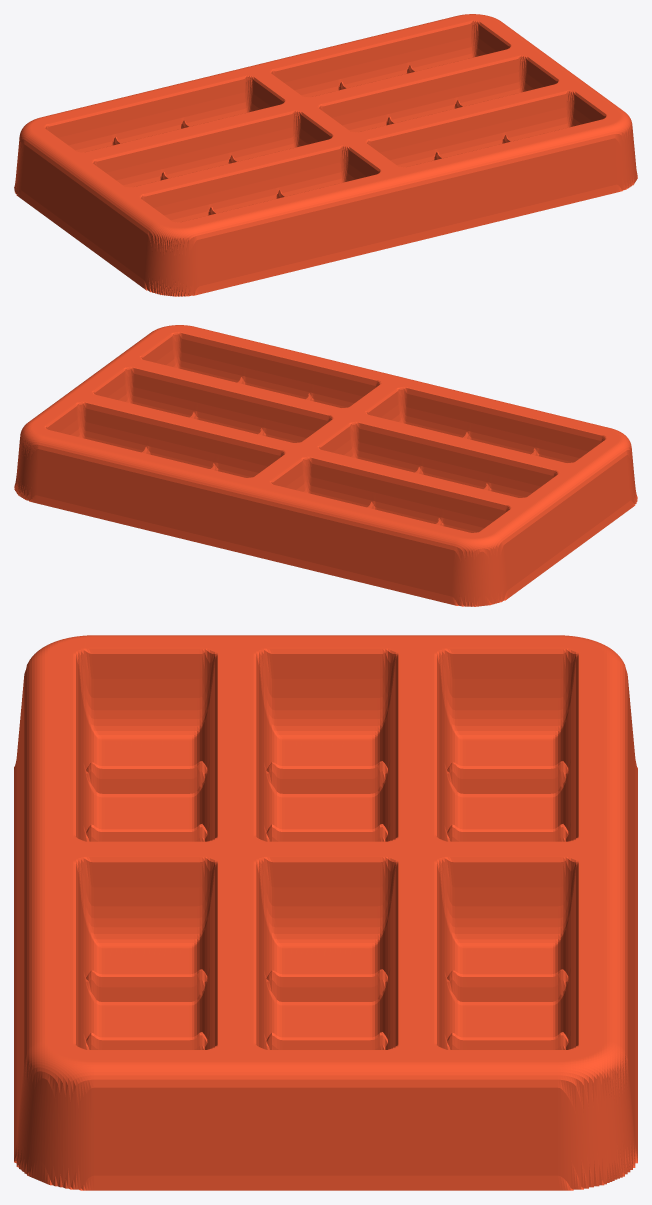
Rendered from mold.glb.
3 renders of one model, top to bottom at view 1: azimuth 30°, elevation 25°; view 2: azimuth 150°, elevation 25°; view 3: azimuth 270°, elevation 25°, orthographic. The views are drawn at different scales.
Parts seen in each view (by area): view 1: geometry_0; view 2: geometry_0; view 3: geometry_0.
Part boxes in pixels (x1,y1,x2,y2): geometry_0: (14,14,637,296); geometry_0: (14,325,637,606); geometry_0: (14,635,637,1190).
Size of the model in its own units: 0.1211 by 0.0145 by 0.0708.
